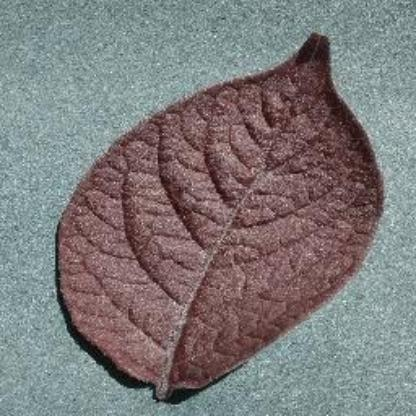Healthy-plant: (50, 30, 388, 401)
